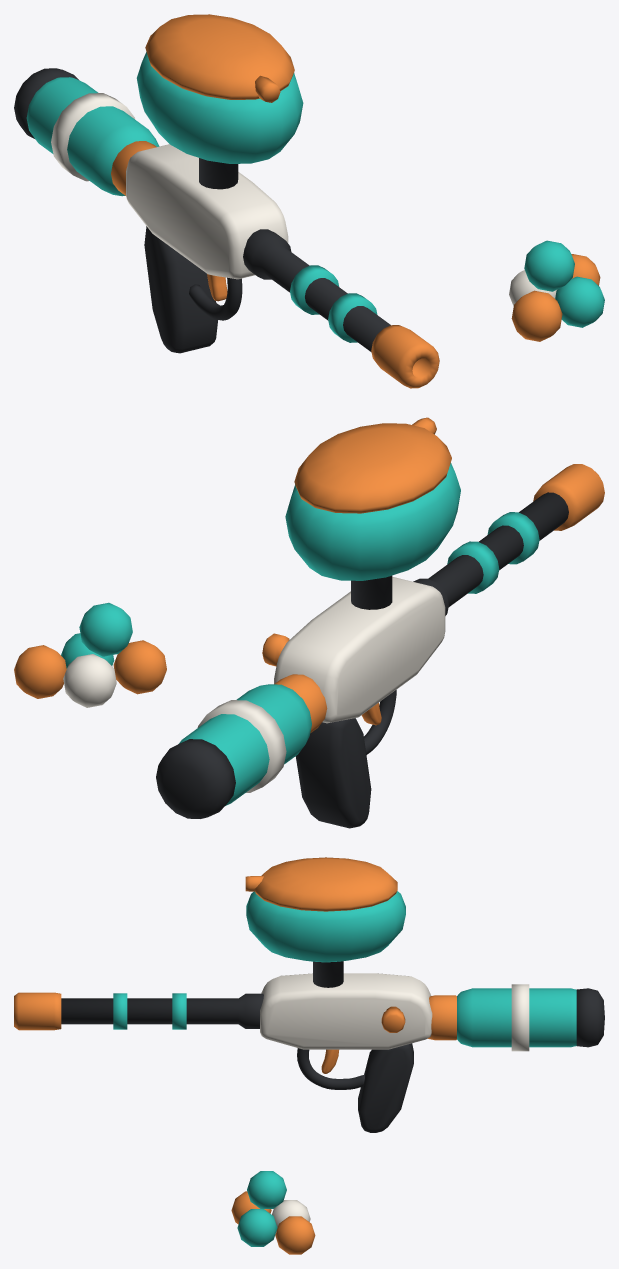
File: toy-paintball-marker.glb
3 renders of one model, top to bottom at view 1: azimuth 30°, elevation 25°; view 2: azimuth 150°, elevation 25°; view 3: azimuth 270°, elevation 25°, orthographic. The views are drawn at different scales.
Parts seen in each view (by area): view 1: Receiver, Hopper, HopperLid, GasBottle, Grip, Barrel, MuzzleTip, Paintball_5, Paintball_1, BottleBand, Paintball_2, TriggerGuard (+8 smaller); view 2: Receiver, Hopper, HopperLid, Grip, GasBottle, ButtPad, Barrel, MuzzleTip, Paintball_3, Paintball_5, Paintball_1, Paintball_4 (+8 smaller); view 3: Receiver, Hopper, HopperLid, GasBottle, Barrel, Grip, MuzzleTip, ButtPad, BottleBand, Paintball_4, Paintball_5, Regulator (+6 smaller).
Boxes of the visible parts, x1,y1,x2,y2 form: Receiver: (126, 144, 288, 279); Hopper: (136, 52, 303, 163); HopperLid: (145, 14, 294, 99); GasBottle: (26, 77, 159, 196); Grip: (144, 226, 217, 353); Barrel: (243, 229, 390, 352); MuzzleTip: (371, 325, 439, 388); Paintball_5: (524, 240, 574, 291); Paintball_1: (511, 290, 562, 341); BottleBand: (51, 93, 135, 181); Paintball_2: (555, 276, 604, 327); TriggerGuard: (189, 277, 242, 320); Receiver: (274, 577, 445, 723); Hopper: (285, 462, 460, 580); HopperLid: (294, 423, 451, 513); Grip: (295, 718, 371, 828); GasBottle: (179, 684, 311, 805); ButtPad: (156, 739, 235, 818); Barrel: (413, 492, 568, 615); MuzzleTip: (533, 464, 604, 530); Paintball_3: (63, 654, 116, 707); Paintball_5: (79, 602, 132, 656); Paintball_1: (113, 640, 166, 694); Paintball_4: (14, 645, 66, 698); Receiver: (260, 973, 432, 1049); Hopper: (246, 891, 405, 962); HopperLid: (254, 857, 397, 911); GasBottle: (457, 988, 576, 1047); Barrel: (61, 993, 263, 1028); Grip: (358, 1043, 413, 1132); MuzzleTip: (14, 992, 61, 1030); ButtPad: (576, 988, 604, 1047); BottleBand: (511, 984, 529, 1051); Paintball_4: (275, 1216, 315, 1254); Paintball_5: (247, 1171, 286, 1208); Regulator: (427, 995, 456, 1040).
Bounding box in the file's own units: 1.91 × 1.45 × 3.
